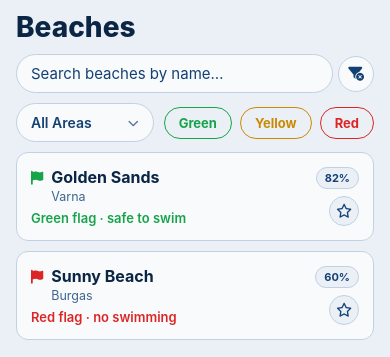
it: BeachList › filters by name via search
This screenshot has width=390, height=357.
Step 1. Type "golden" into the field labelled "Search beaches by name" → (174, 74), box [16,54,333,93]
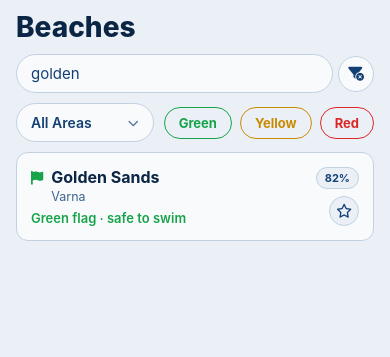
expect the text "Golden Sands" is shown: met, box [51,167,160,187]
expect the button "Sunny Beach" is gone: met
